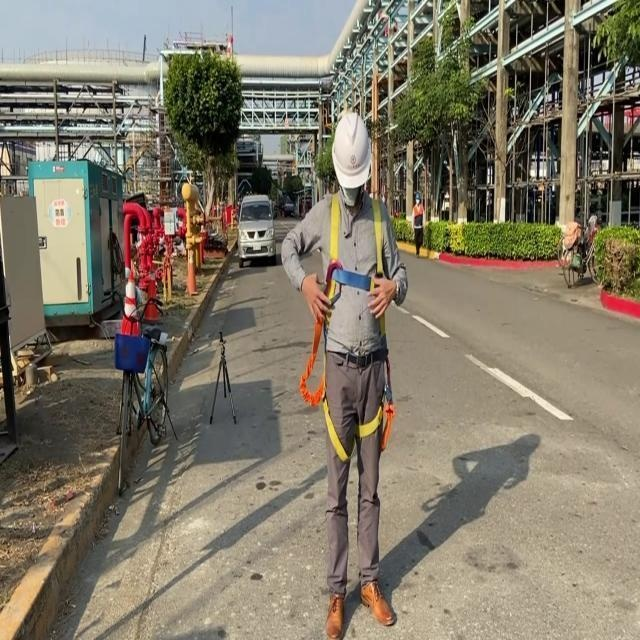Arnes_seguridad: (317, 187, 396, 466)
